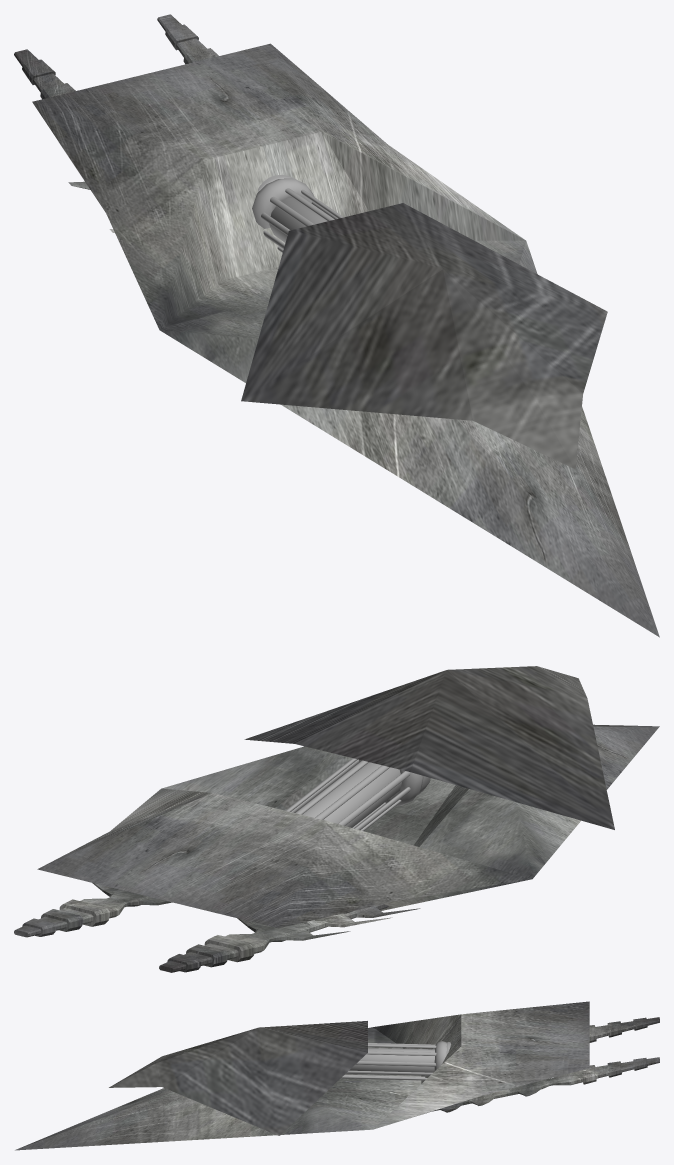
File: wing_weak_open.fbx
3 views of the same model, one above another, from view 1: azimuth 30°, elevation 25°; view 2: azimuth 150°, elevation 25°; view 3: azimuth 270°, elevation 25° (orthographic). The views are drawn at different scales.
Parts seen in each view (by area): view 1: polySurface3283, polySurface3233, polySurface3285, polySurface3282; view 2: polySurface3283, polySurface3233, polySurface3282, polySurface3285; view 3: polySurface3283, polySurface3233, polySurface3285, polySurface3282.
Boxes of the visible parts, <box> form: polySurface3283: <box>32,43,659,637</box>; polySurface3233: <box>241,203,607,469</box>; polySurface3285: <box>252,175,343,252</box>; polySurface3282: <box>14,14,218,232</box>; polySurface3283: <box>37,724,659,928</box>; polySurface3233: <box>244,666,614,829</box>; polySurface3282: <box>14,883,420,972</box>; polySurface3285: <box>285,758,430,830</box>; polySurface3283: <box>15,1001,589,1150</box>; polySurface3233: <box>109,1021,367,1135</box>; polySurface3285: <box>341,1041,450,1080</box>; polySurface3282: <box>430,1017,659,1112</box>.
Bounding box in the file's own units: 3.92 × 2.17 × 10.43.
2 materials, 1 textured.
